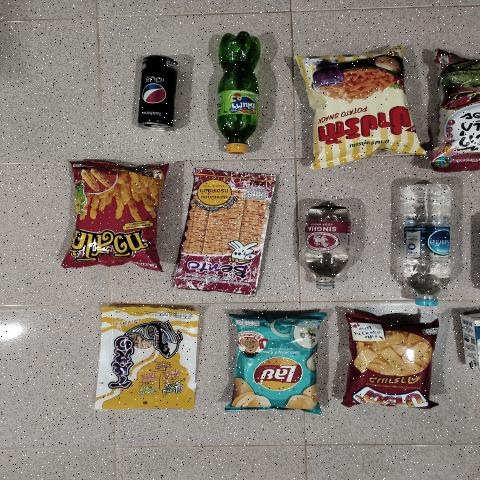bento_red: (175, 173, 263, 300)
crystal: (393, 180, 456, 306)
fanta_green: (212, 30, 258, 155)
lay_blue: (239, 321, 318, 411)
paprika: (302, 51, 422, 157)
party_red: (348, 320, 434, 412)
pepsi_black: (136, 52, 181, 134)
singha_soda: (299, 205, 347, 288)
taro_yellow: (101, 312, 191, 408)
twisco: (72, 167, 158, 267)
